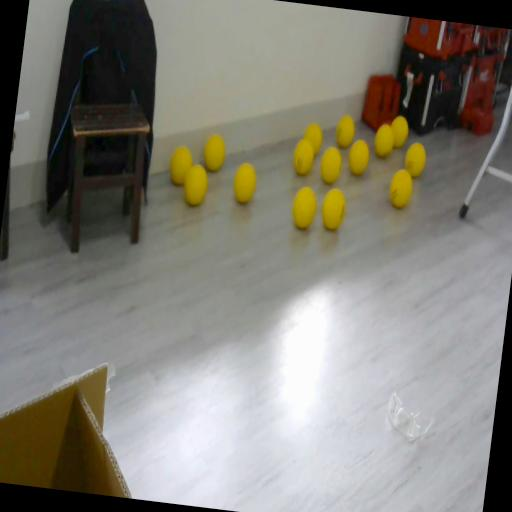FUEL: (230, 160, 260, 204), (290, 185, 318, 231), (320, 186, 348, 232), (182, 162, 210, 207), (387, 167, 415, 209), (168, 144, 194, 186), (202, 131, 228, 173), (318, 144, 344, 185), (346, 138, 372, 177), (403, 141, 428, 179), (301, 121, 324, 157), (334, 114, 356, 149), (388, 114, 410, 148)
